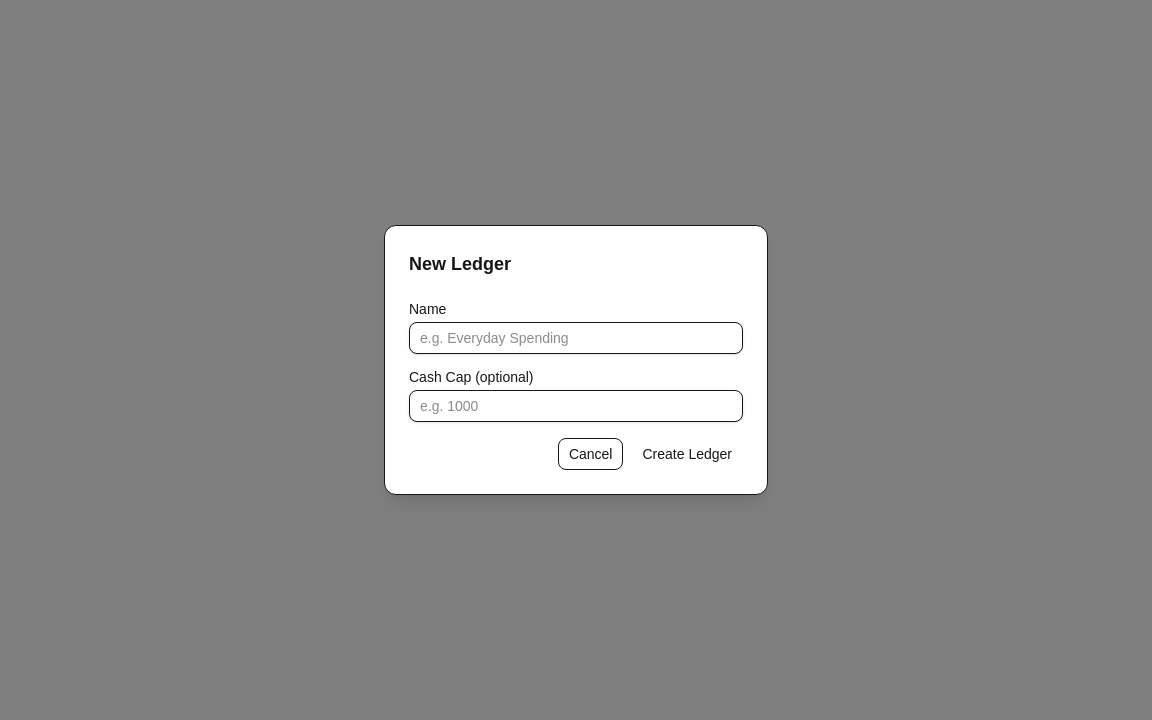
it: CreateLedgerDialog › submission › clears the submit error when re-submitting with a validation failure
Type "My Ledger" into the field labelled "Name" at (576, 338), box [409,322,743,354]
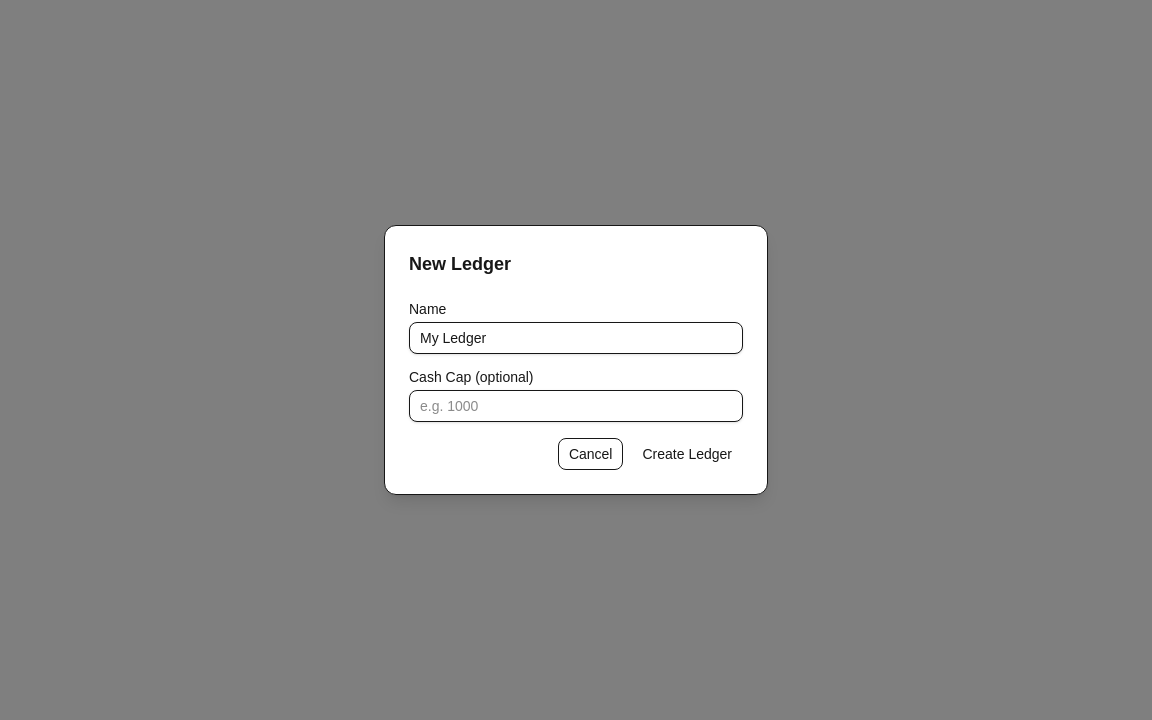
Click the button "Create Ledger" at (687, 454), box [632,438,743,470]
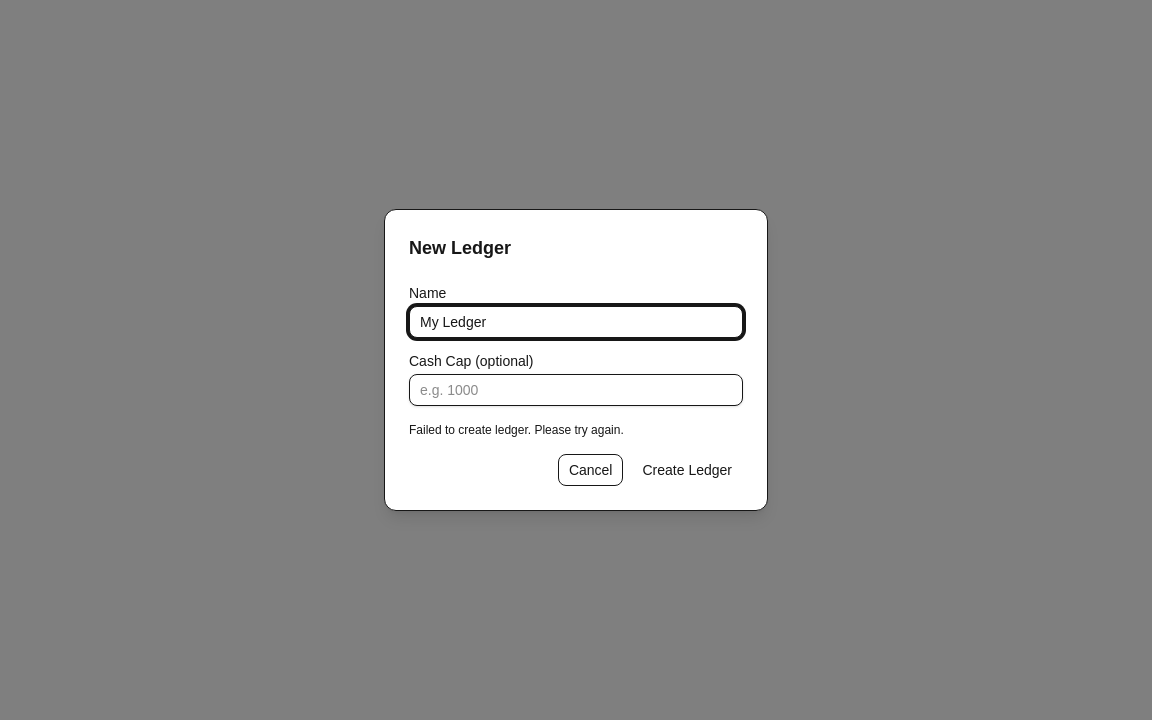
Expected: the text "Failed to create ledger. Please try again." is shown, [409,423,624,437]
# Clear the name to trigger a validation failure on re-submit
Clear the field labelled "Name" at (576, 322), box [409,306,743,338]
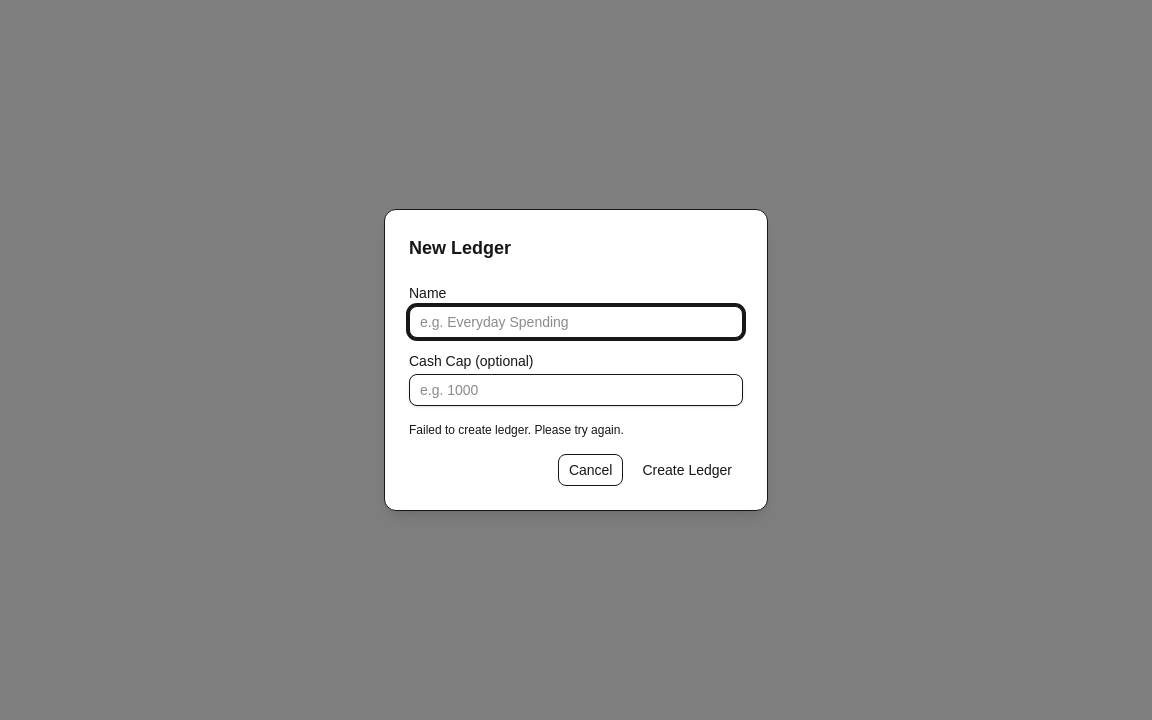
Click the button "Create Ledger" at (687, 470), box [632,454,743,486]
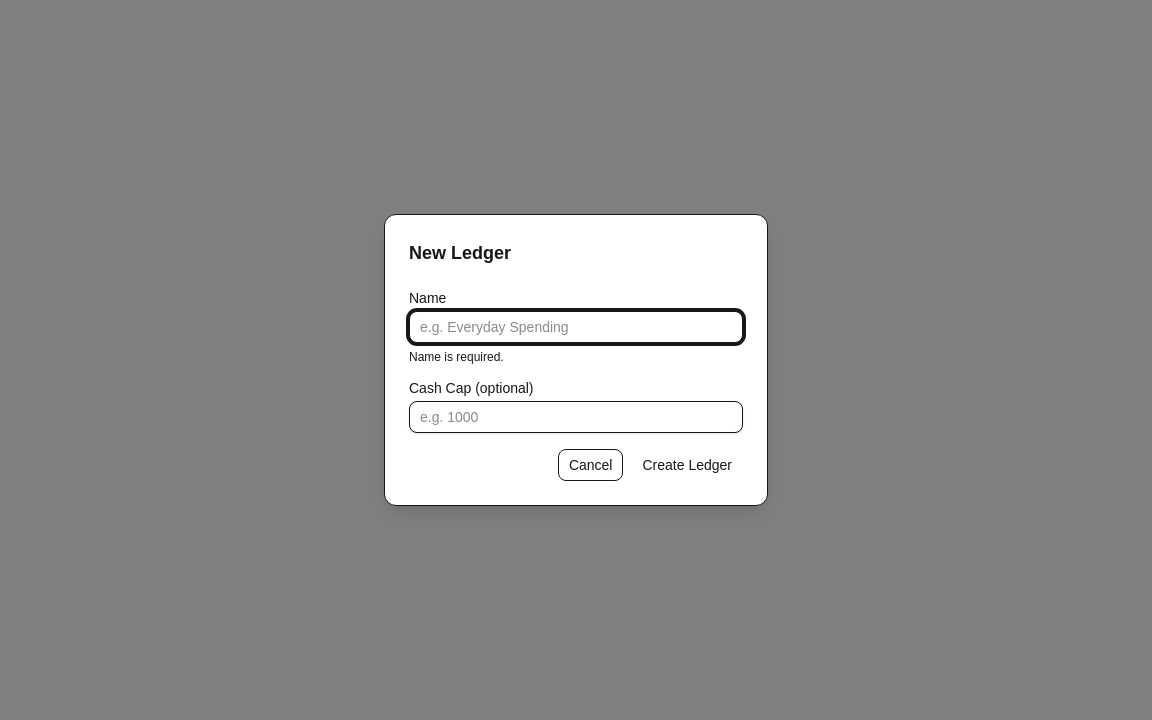
Expected: the text "Failed to create ledger. Please try again." is gone
Expected: the text "Name is required." is shown, [409,350,504,364]
